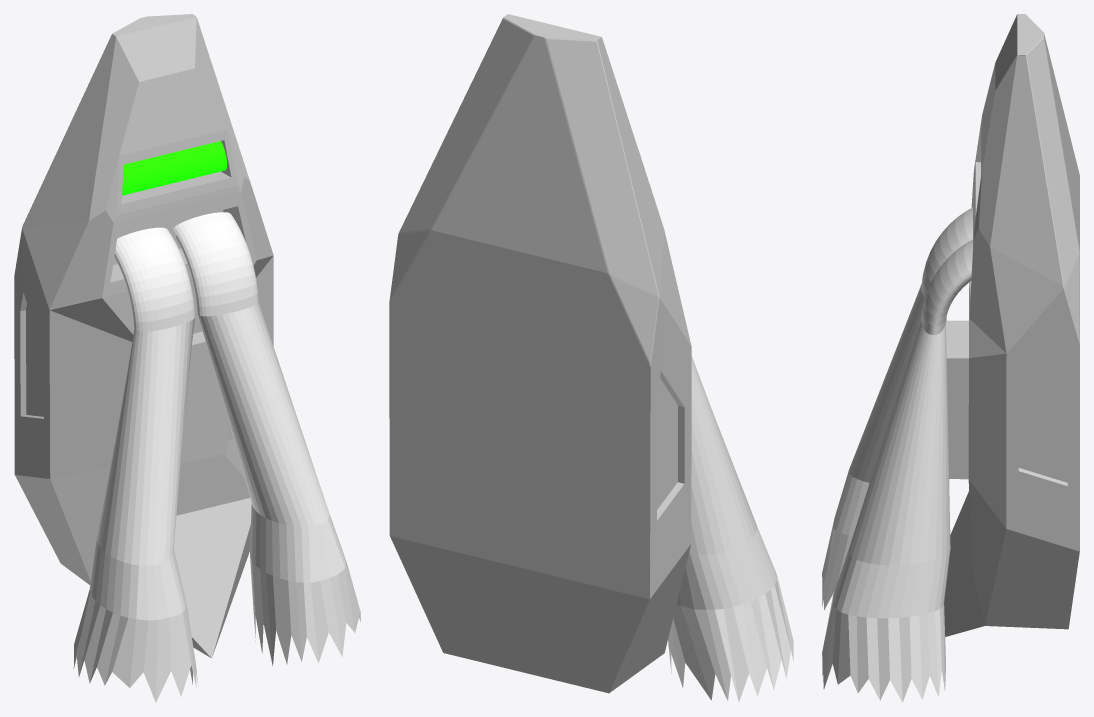
The model's file is jetpackv0.glb.
3 renders of one model, left to right at view 1: azimuth 30°, elevation 25°; view 2: azimuth 150°, elevation 25°; view 3: azimuth 270°, elevation 25°, orthographic. The views are drawn at different scales.
Visible parts, largest first — view 1: Chassis, Thust.001, Thust.002, Energy.Status; view 2: Chassis, Thust.001; view 3: Chassis, Thust.002, Thust.001.
Part boxes in pixels (<box>): Chassis: <box>14,14,273,658</box>; Thust.001: <box>73,227,198,702</box>; Thust.002: <box>173,212,360,666</box>; Energy.Status: <box>122,141,226,195</box>; Chassis: <box>389,14,691,693</box>; Thust.001: <box>668,356,793,702</box>; Chassis: <box>944,14,1079,636</box>; Thust.002: <box>822,239,972,702</box>; Thust.001: <box>822,207,972,610</box>.
Bounding box in the file's own units: 1.67 × 3.55 × 1.35.
